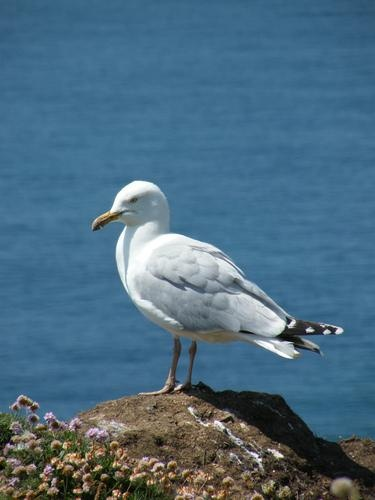bird: (89, 180, 346, 392)
